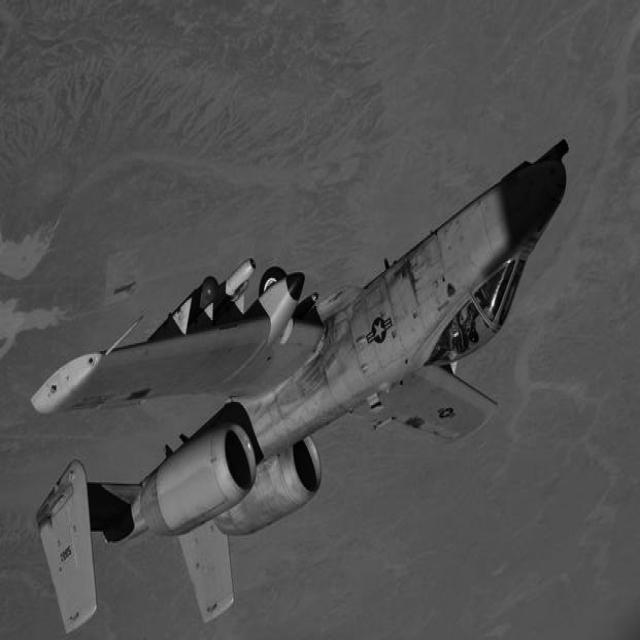A10: (0, 113, 584, 640)
